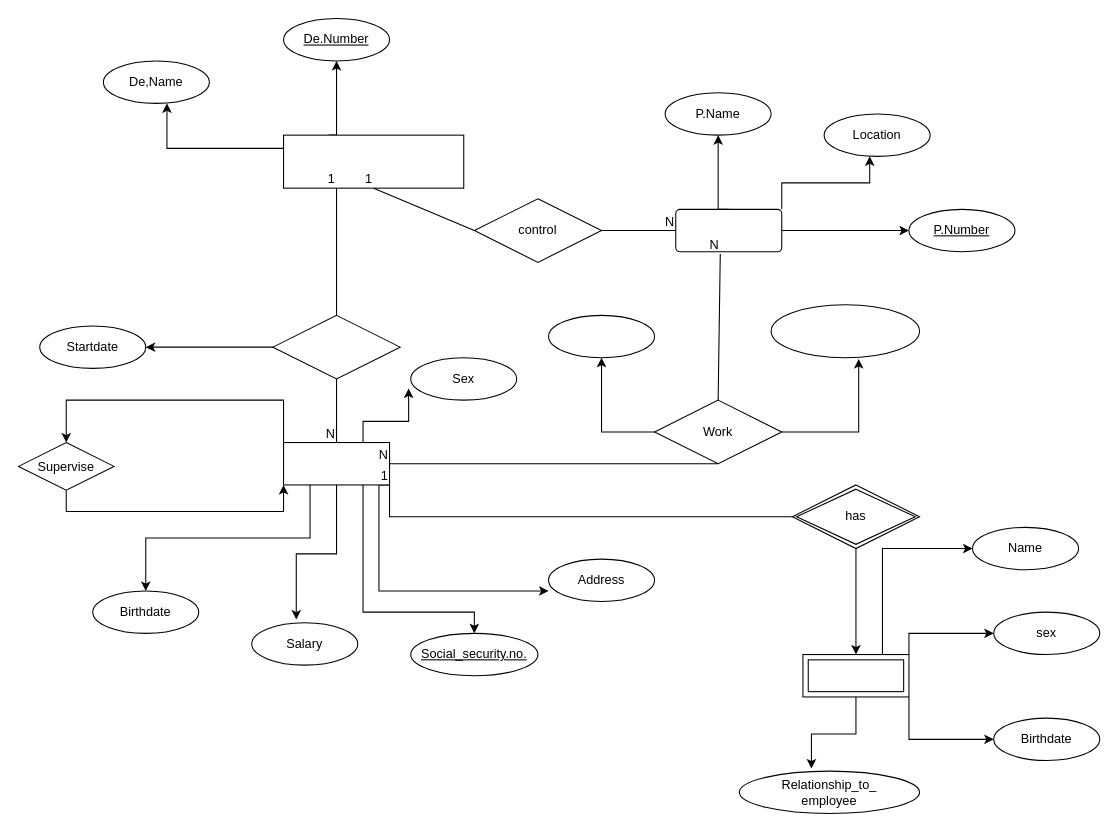
The diagram is 1118 pixels wide and 832 high, and some of its shapes have lost their labels. The centre of each missing label's shape, as x and y in pixels:
"D.Supervisor" goes at [601,336].
"Department" goes at [373,161].
"Dependent" goes at [855,675].
"Employee" goes at [336,463].
"Manage" goes at [336,346].
"No.of_hours_per week" goes at [845,331].
"Project" goes at [728,230].
